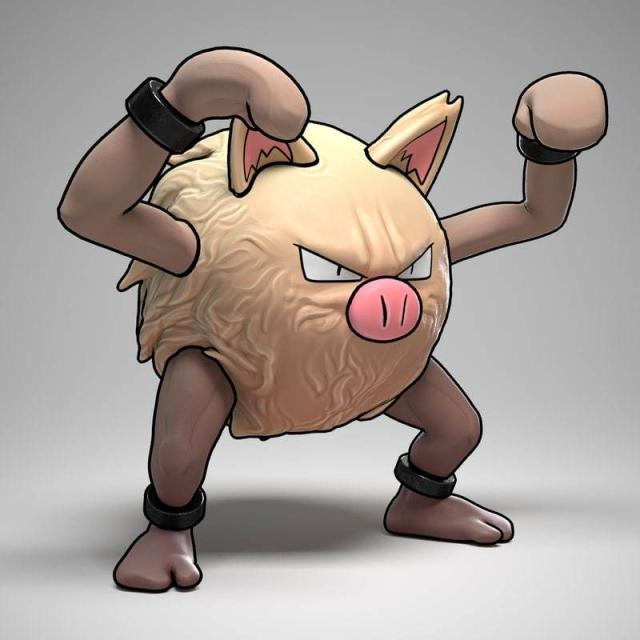Primeape: (84, 35, 526, 585)
